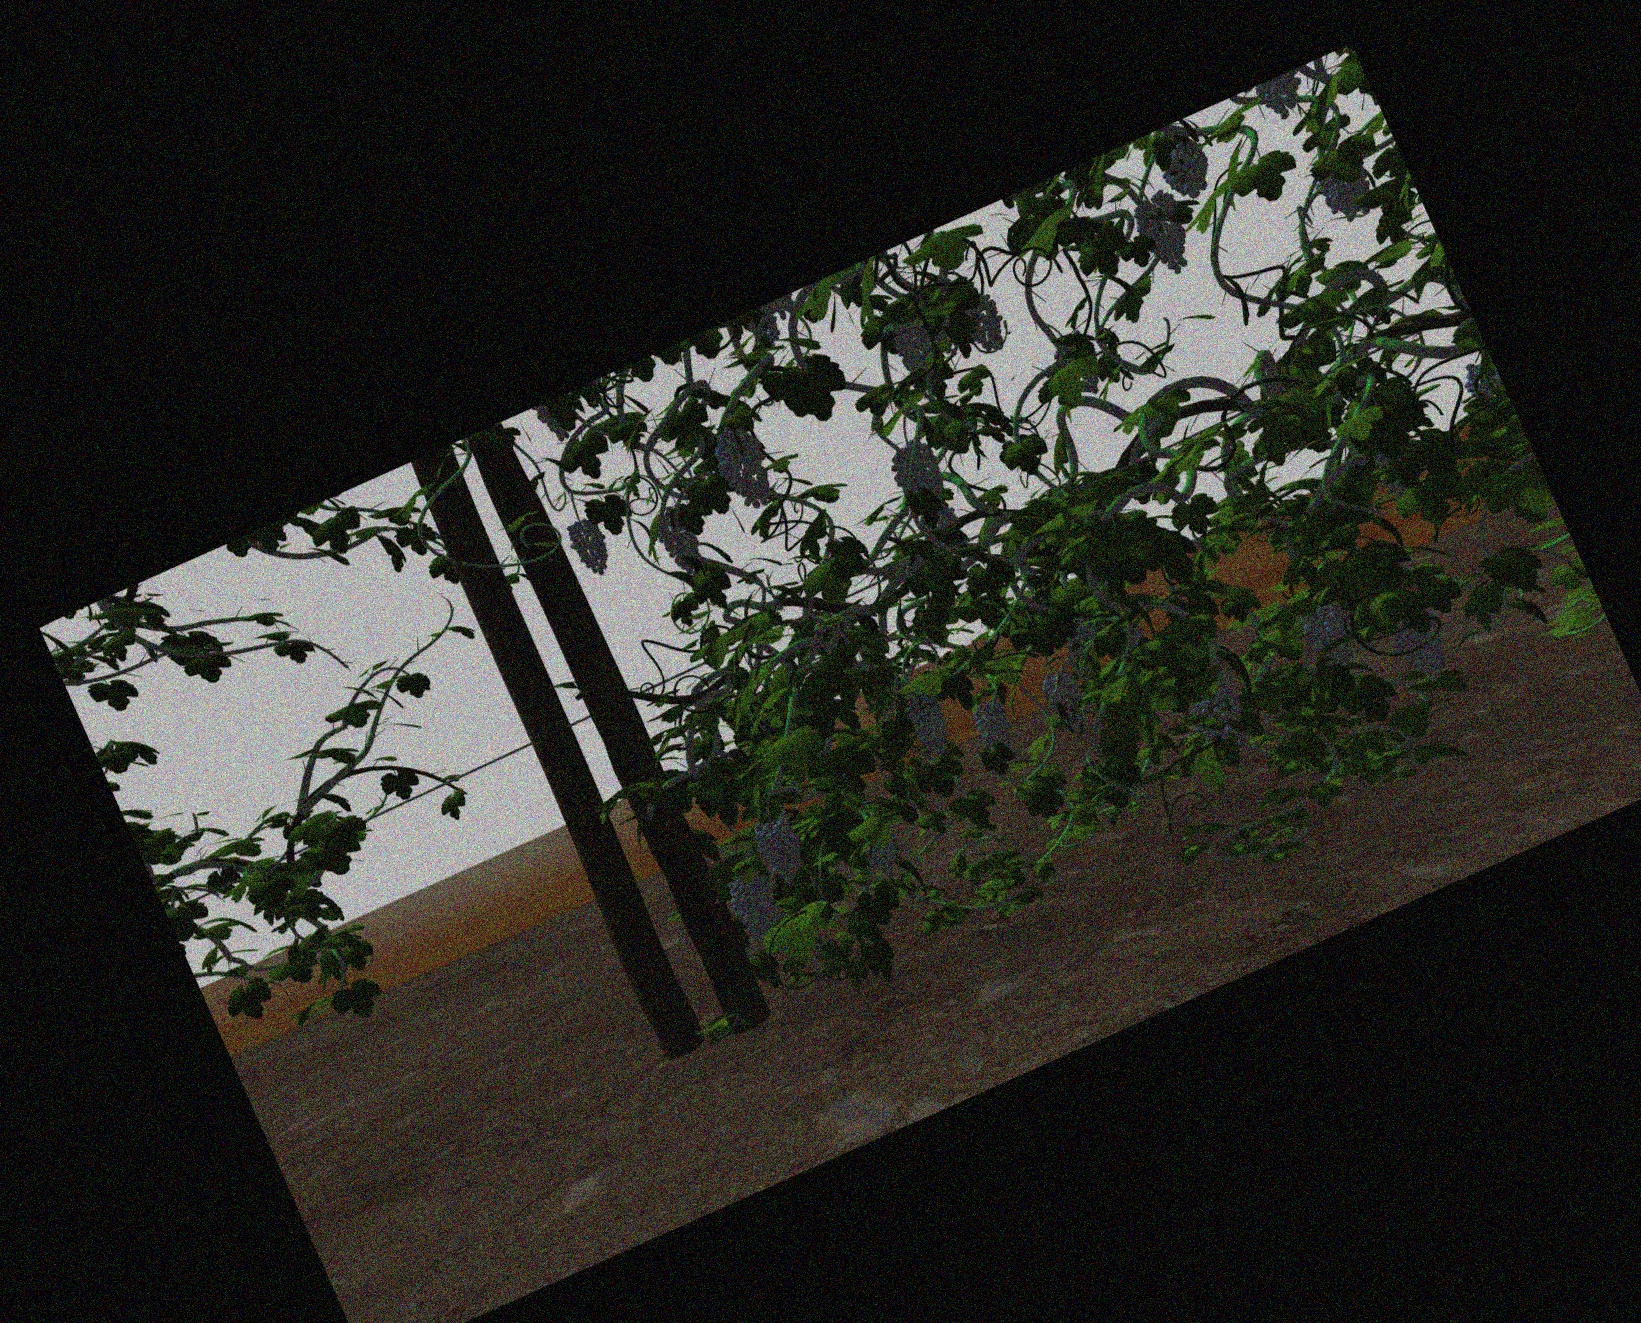grape: (1142, 196, 1190, 271), (722, 428, 767, 506), (1399, 620, 1448, 679), (893, 441, 939, 504), (1323, 161, 1371, 219), (734, 873, 779, 936), (1308, 605, 1355, 661), (761, 819, 803, 882), (910, 694, 949, 757), (1167, 144, 1215, 196), (572, 516, 610, 576), (1196, 691, 1244, 738), (659, 508, 696, 566), (1050, 670, 1082, 734), (969, 292, 1001, 350), (974, 699, 1009, 751), (897, 323, 935, 369), (870, 836, 901, 876)
